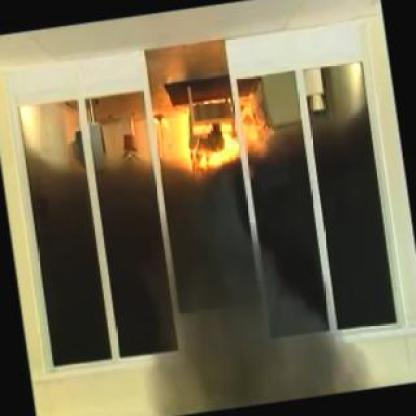Fire: (140, 90, 276, 186)
Smoke: (19, 198, 396, 363)
